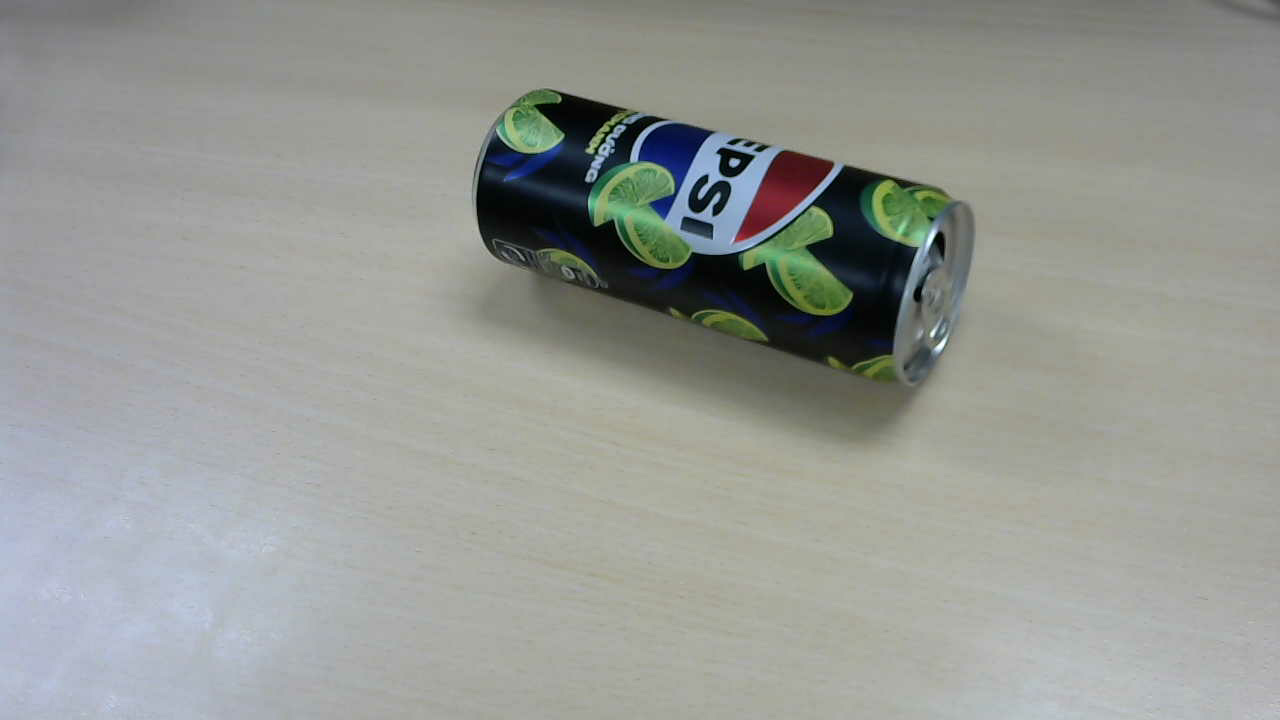Pepsi: (477, 96, 976, 393)
